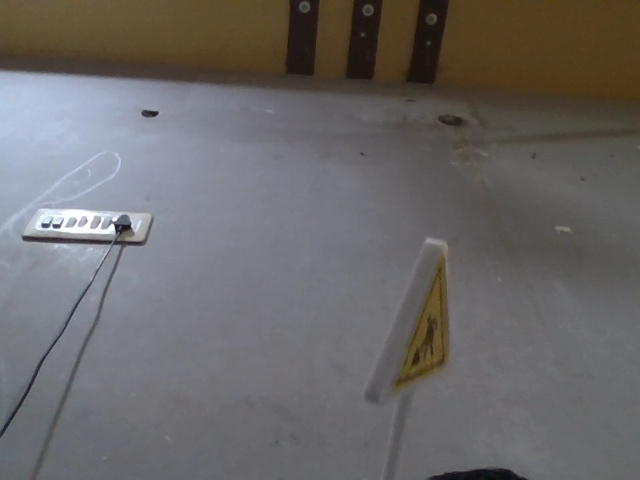workinprogress: (318, 233, 462, 394)
